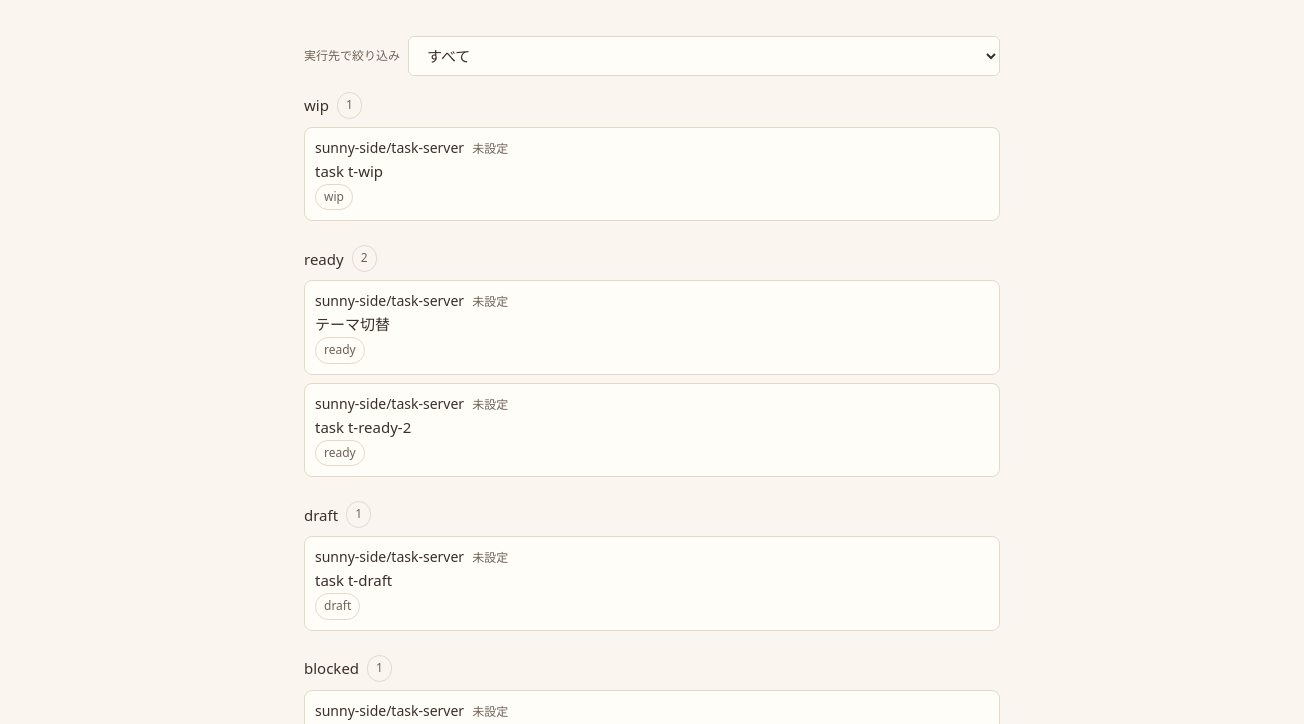
Scenario: preserves pending through refresh and respects dismissed focus (moved: false)
Right-click the link "sunny-side/task-server 未設定 task t-draft draft".
right_click(390, 557)  # box [304, 536, 1000, 631]
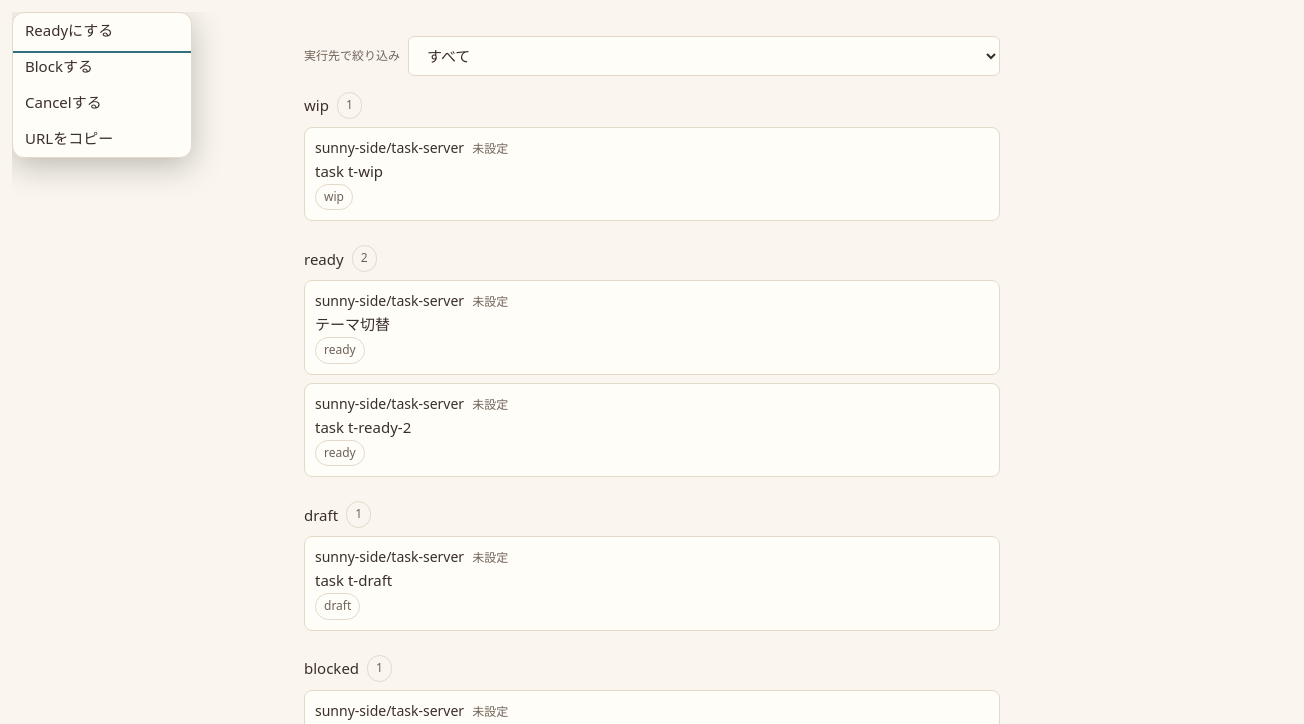
Click the menu item "Readyにする".
click(102, 31)  # box [13, 13, 191, 49]
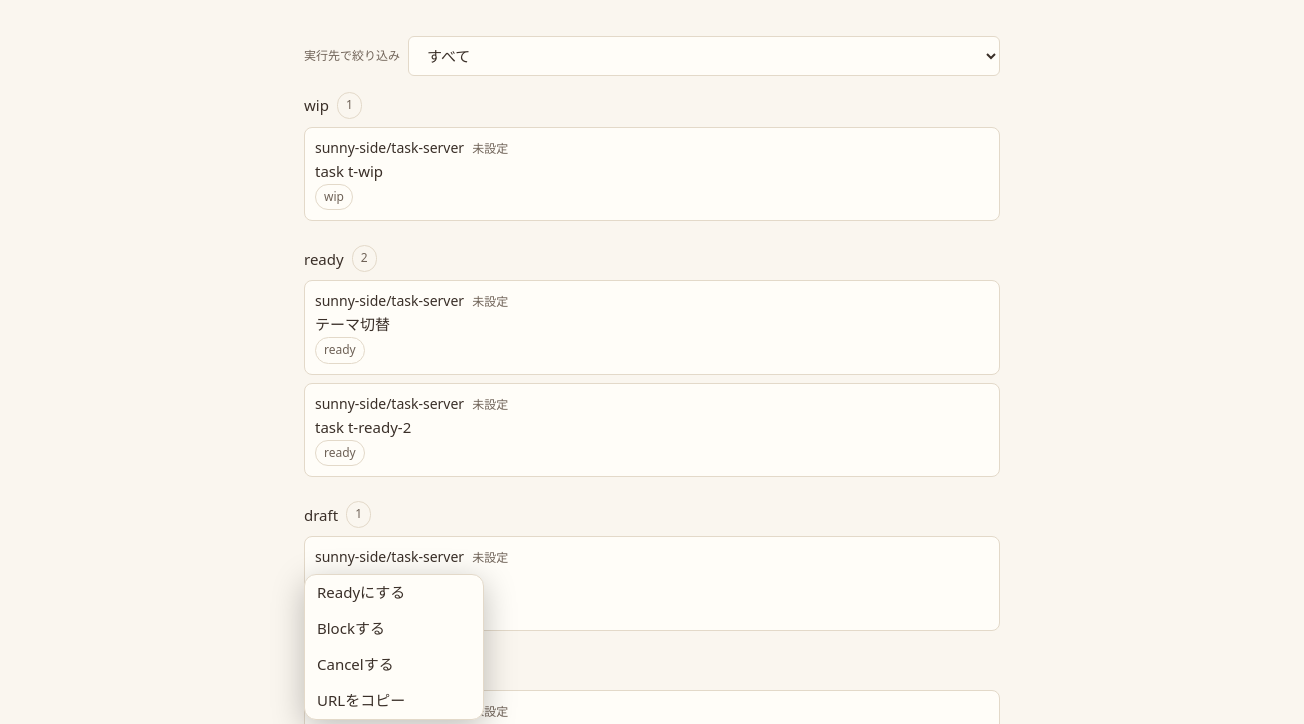
Now the menu item "Readyにする" is disabled, box [305, 575, 483, 611]
Press Escape
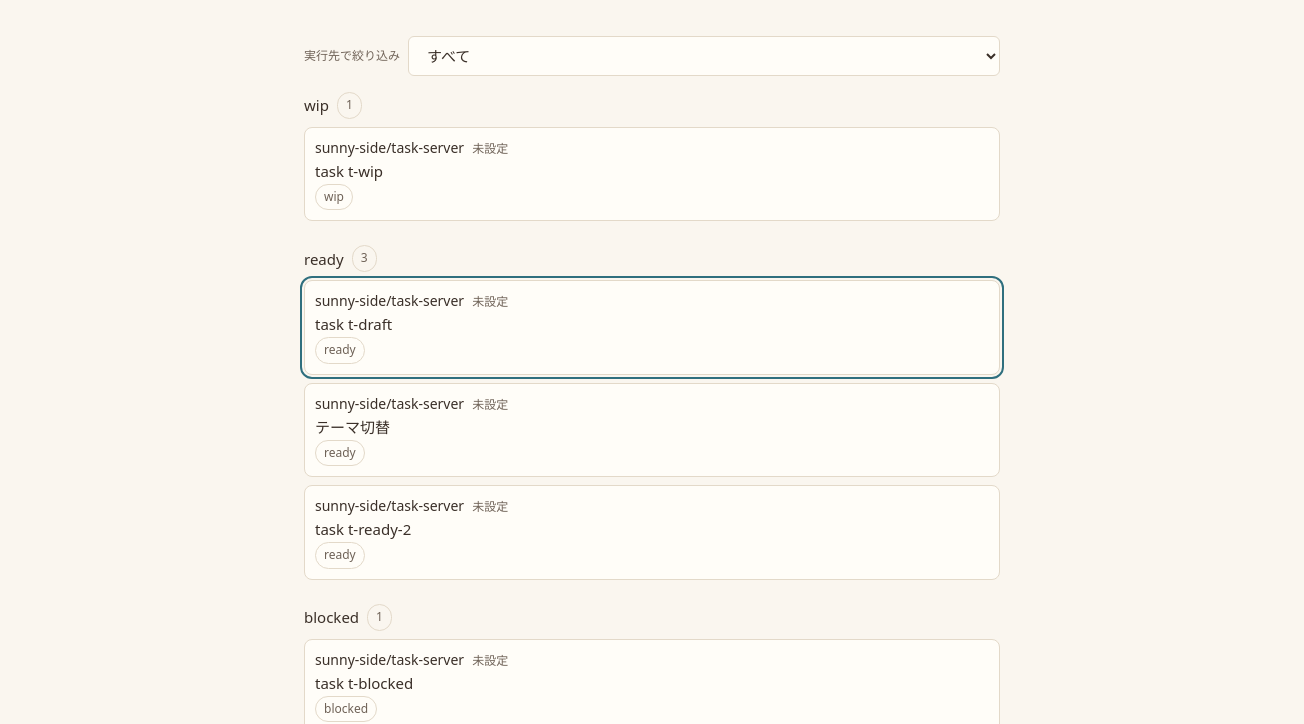
Now the menu is gone
